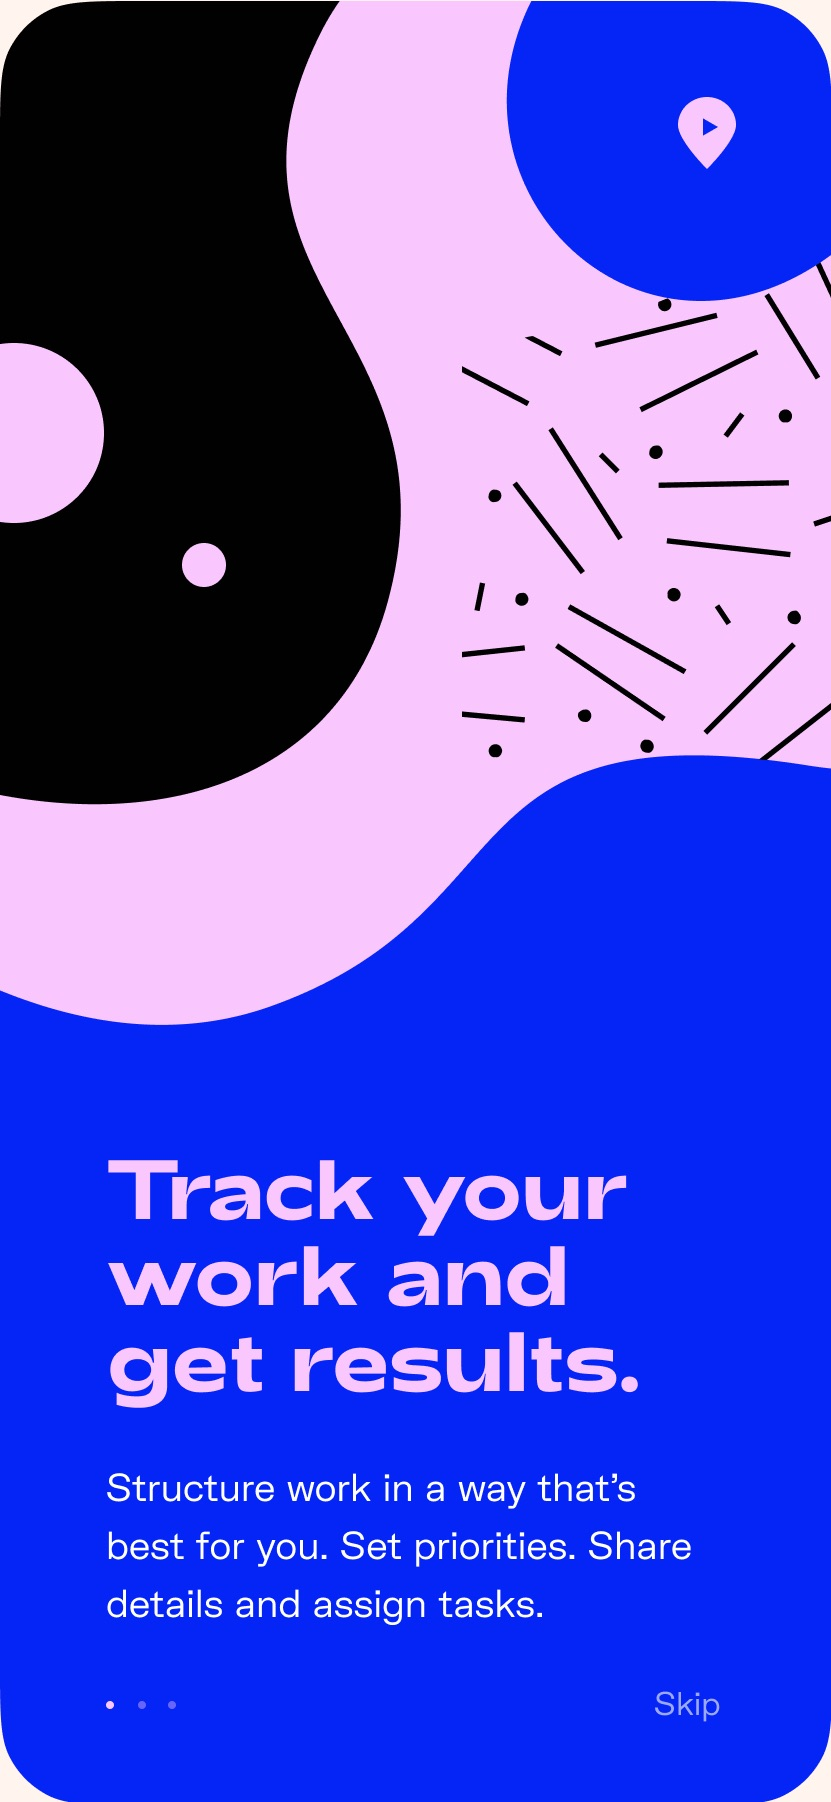BackgroundImage: (1, 2, 831, 1802)
PageIndicator: (106, 1699, 178, 1710)
Text: (107, 1158, 640, 1410), (107, 1471, 693, 1627), (654, 1691, 720, 1722)
